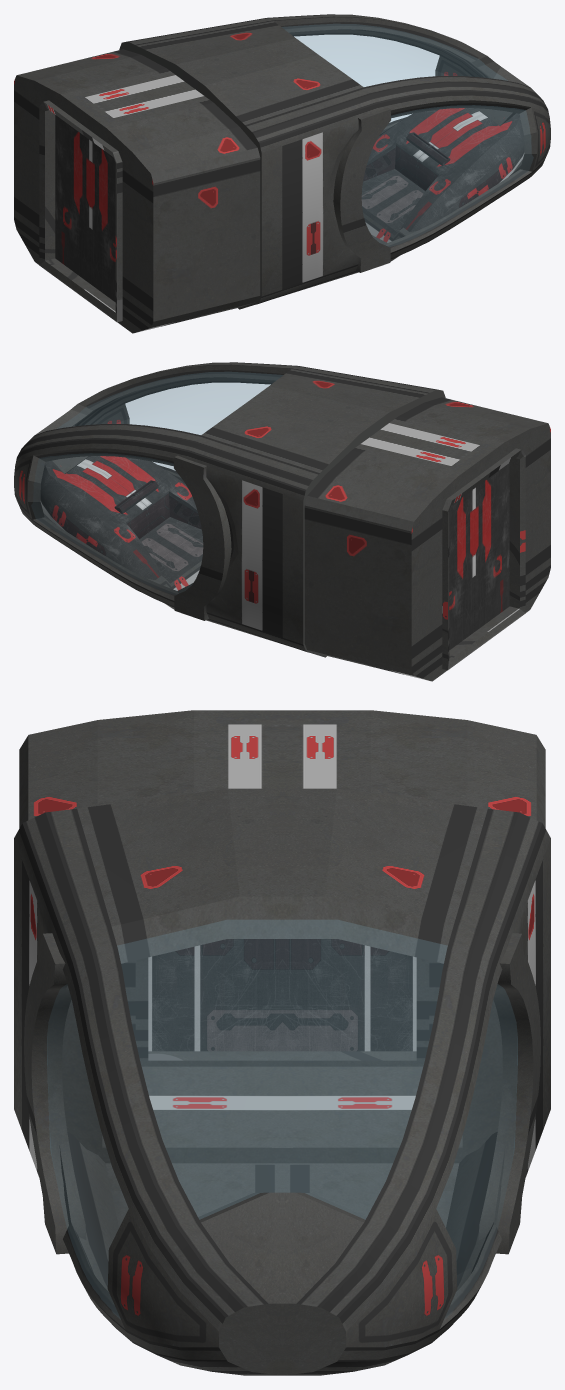
File: spaceship_cockpit.glb
3 views of the same model, one above another, from view 1: azimuth 30°, elevation 25°; view 2: azimuth 150°, elevation 25°; view 3: azimuth 270°, elevation 25° (orthographic). The views are drawn at different scales.
Parts seen in each view (by area): view 1: SpaceShipBody, Cube.007; view 2: SpaceShipBody, Cube.007; view 3: SpaceShipBody, Cube.007.
Boxes of the visible parts, x1,y1,x2,y2 form: SpaceShipBody: (14,14,550,333); Cube.007: (282,24,533,246); SpaceShipBody: (14,362,550,681); Cube.007: (31,372,282,594); SpaceShipBody: (14,710,550,1375); Cube.007: (47,920,517,1317).
Size of the model in its own units: 5.17 by 2.17 by 2.81.
Materials: 3 (2 with a texture image).
